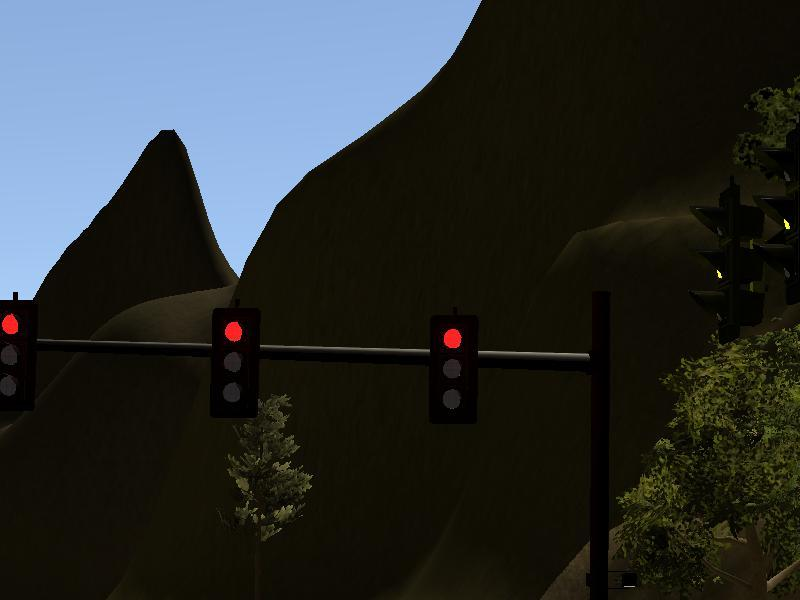Red: (427, 315, 477, 423), (210, 307, 259, 417), (1, 300, 36, 410)
